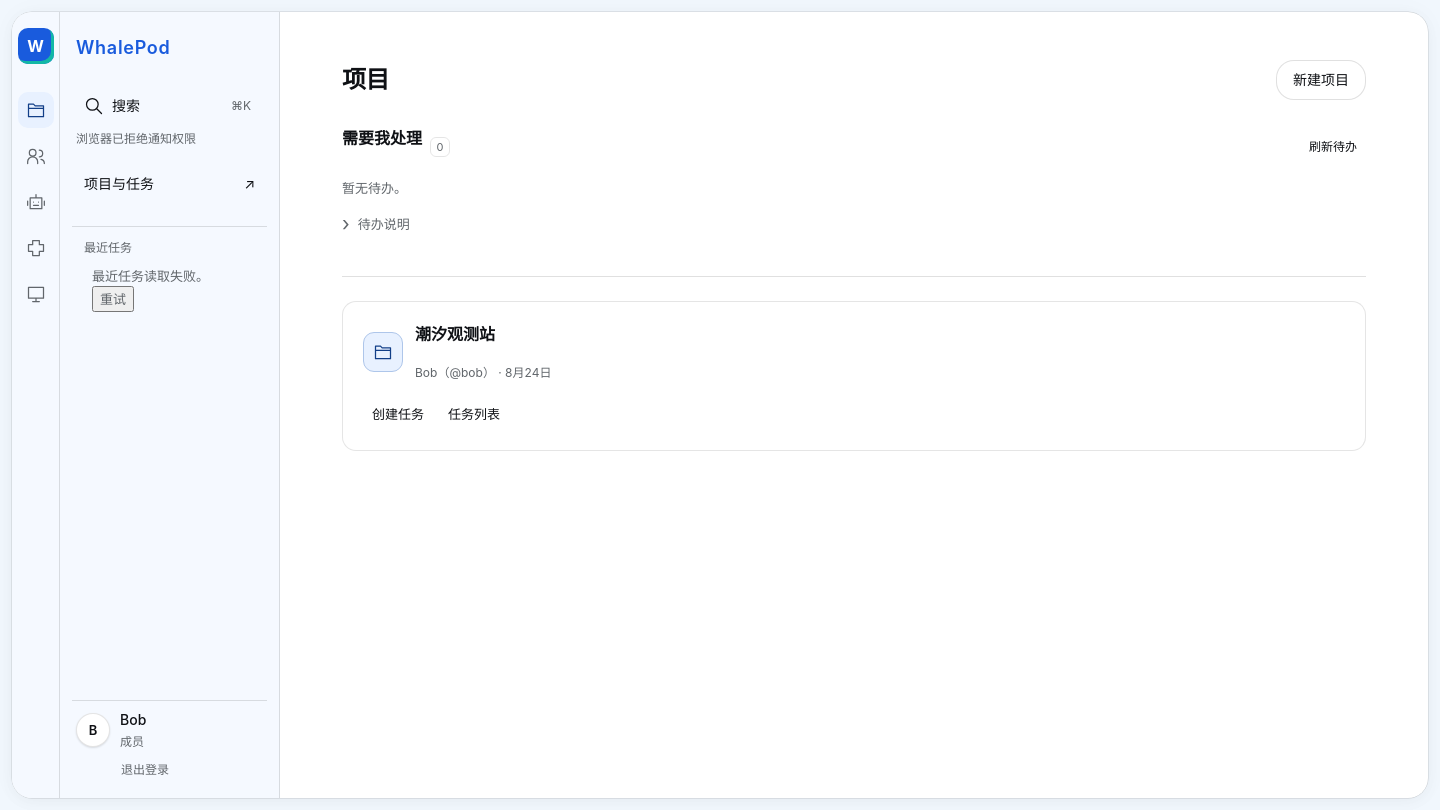
it: #344 创建任务：责任人与「创建后立即执行」拆开（承接 #239 指派即执行） › 分给别人：开关禁用并说明对方要先接受任务；执行中改选别人则显式关闭并清掉已选 Agent
Click the button "创建任务" at [398, 414], box left=363, top=398, right=433, bottom=430
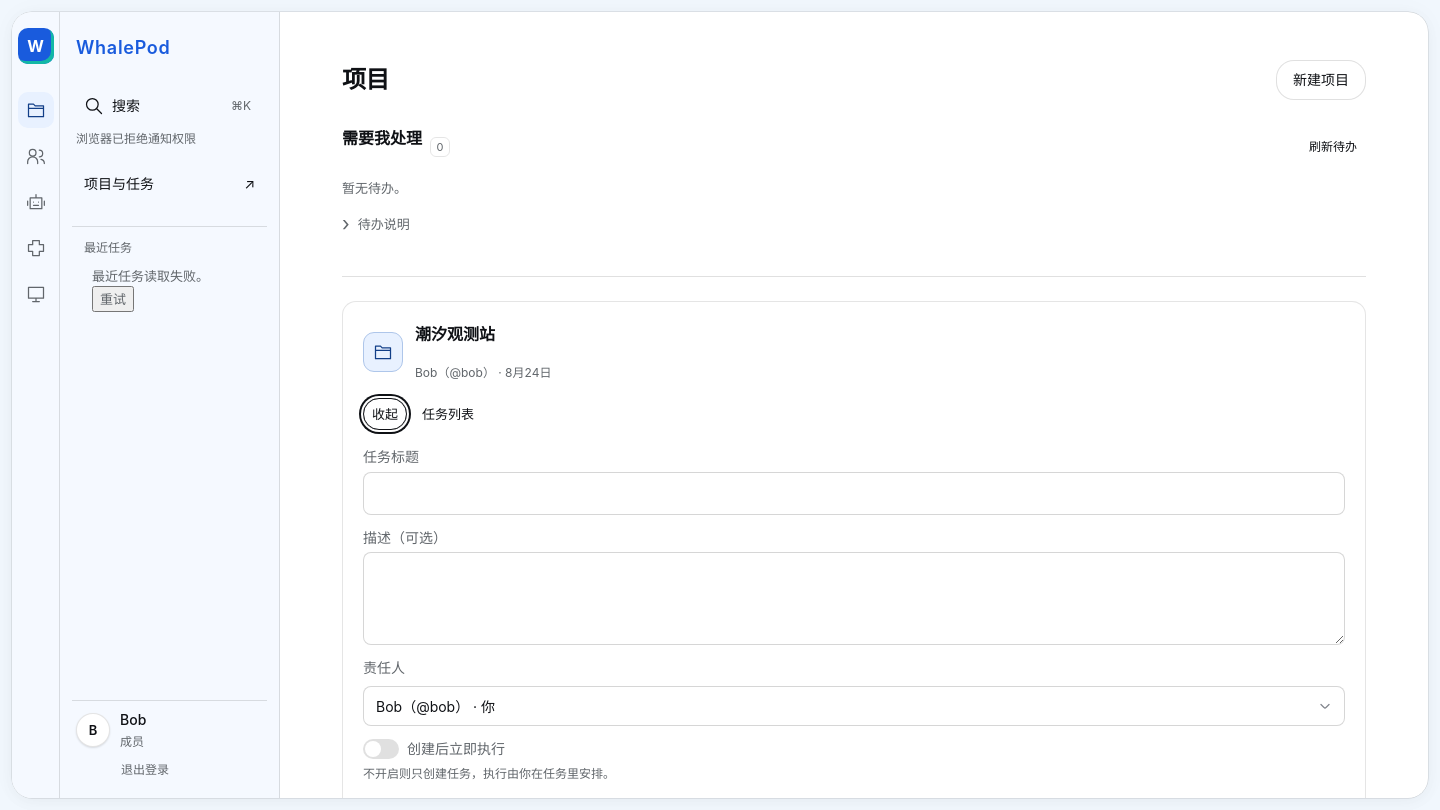
Type "把登录页改成深色" into the field labelled "任务标题" at [854, 493], box left=363, top=472, right=1345, bottom=515
Click the switch named "创建后立即执行" at [381, 749], box left=363, top=739, right=399, bottom=759
(page scrolled)
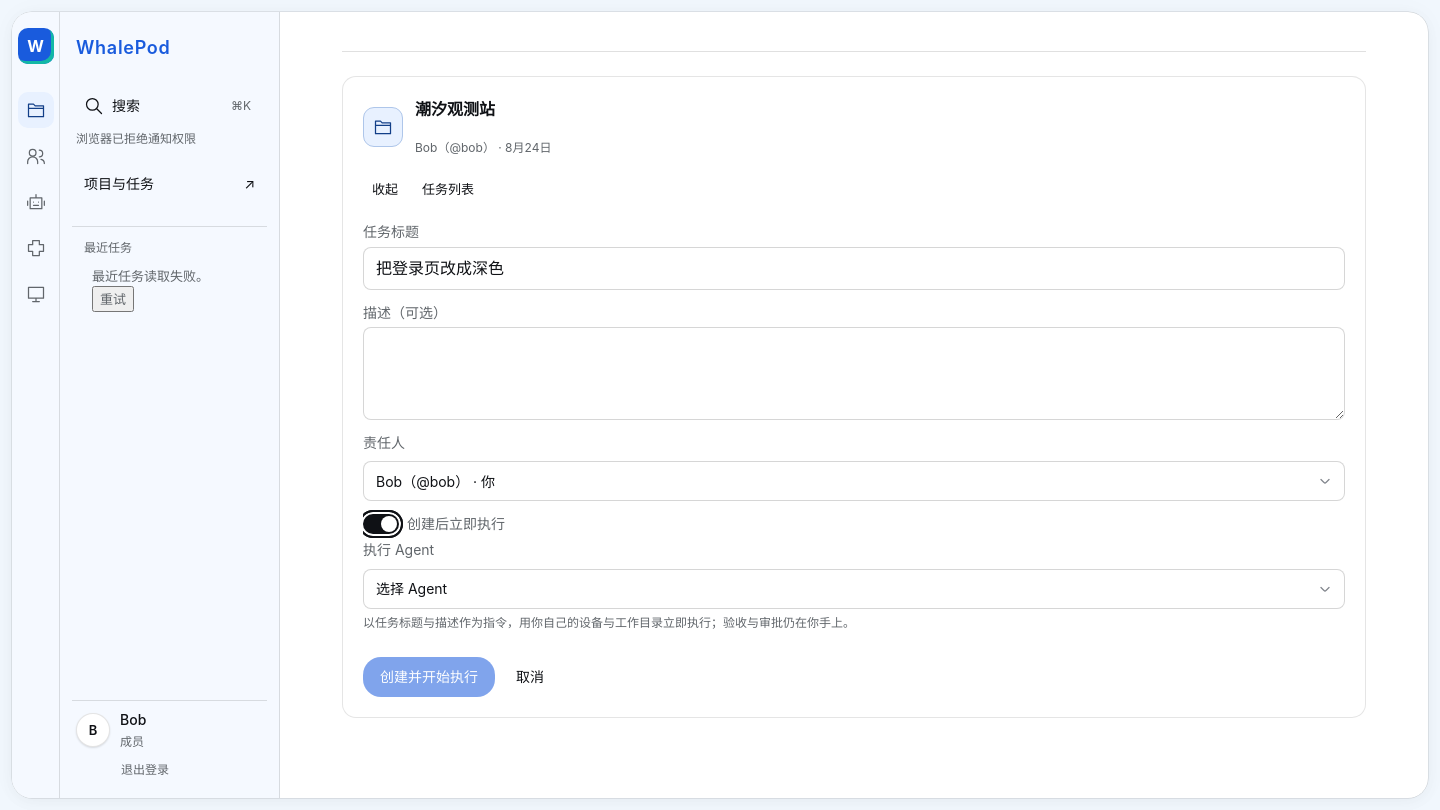
Click the button named "执行 Agent" at [412, 588], box left=363, top=569, right=1345, bottom=609
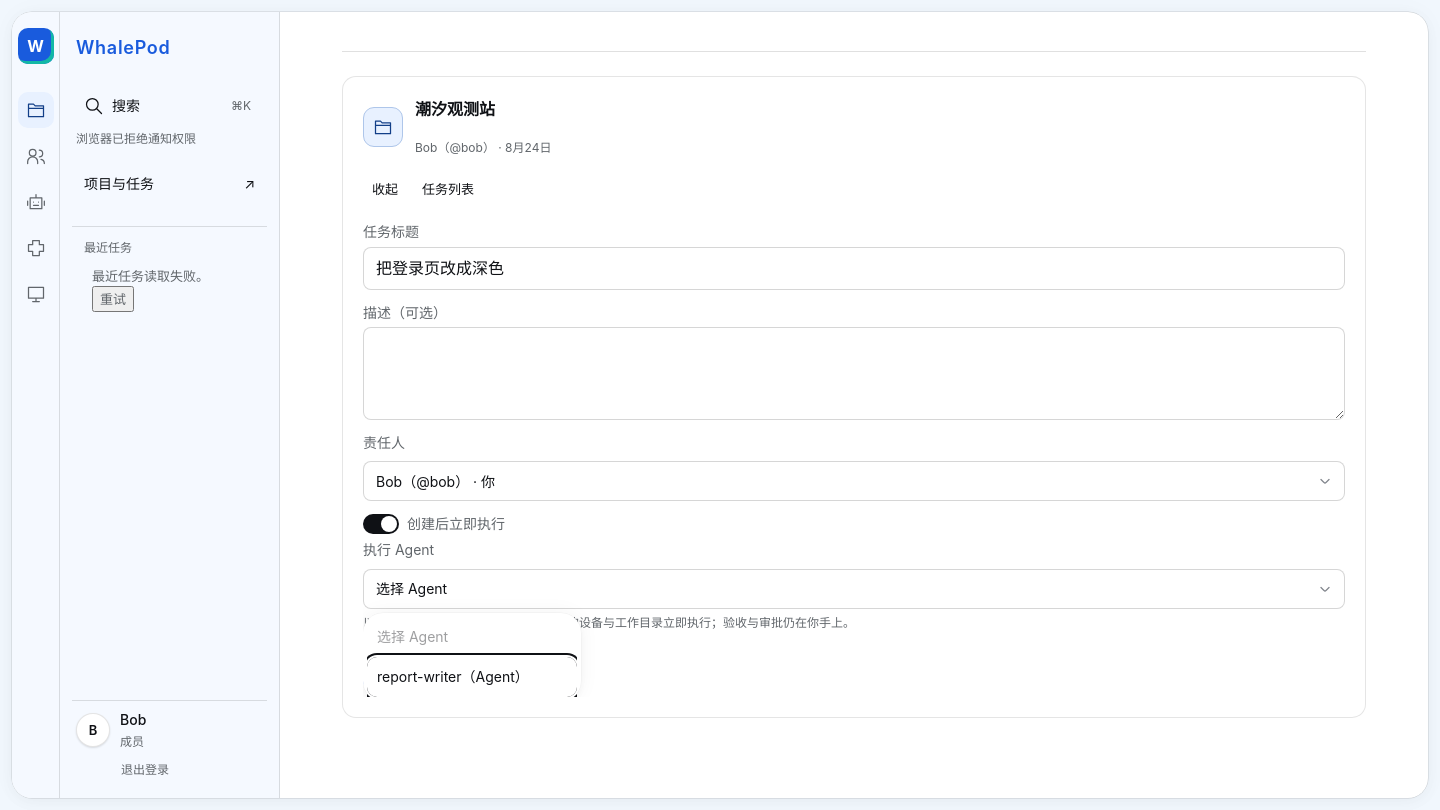
Click the menu item "report-writer（Agent）" at [472, 677], box left=367, top=657, right=577, bottom=697
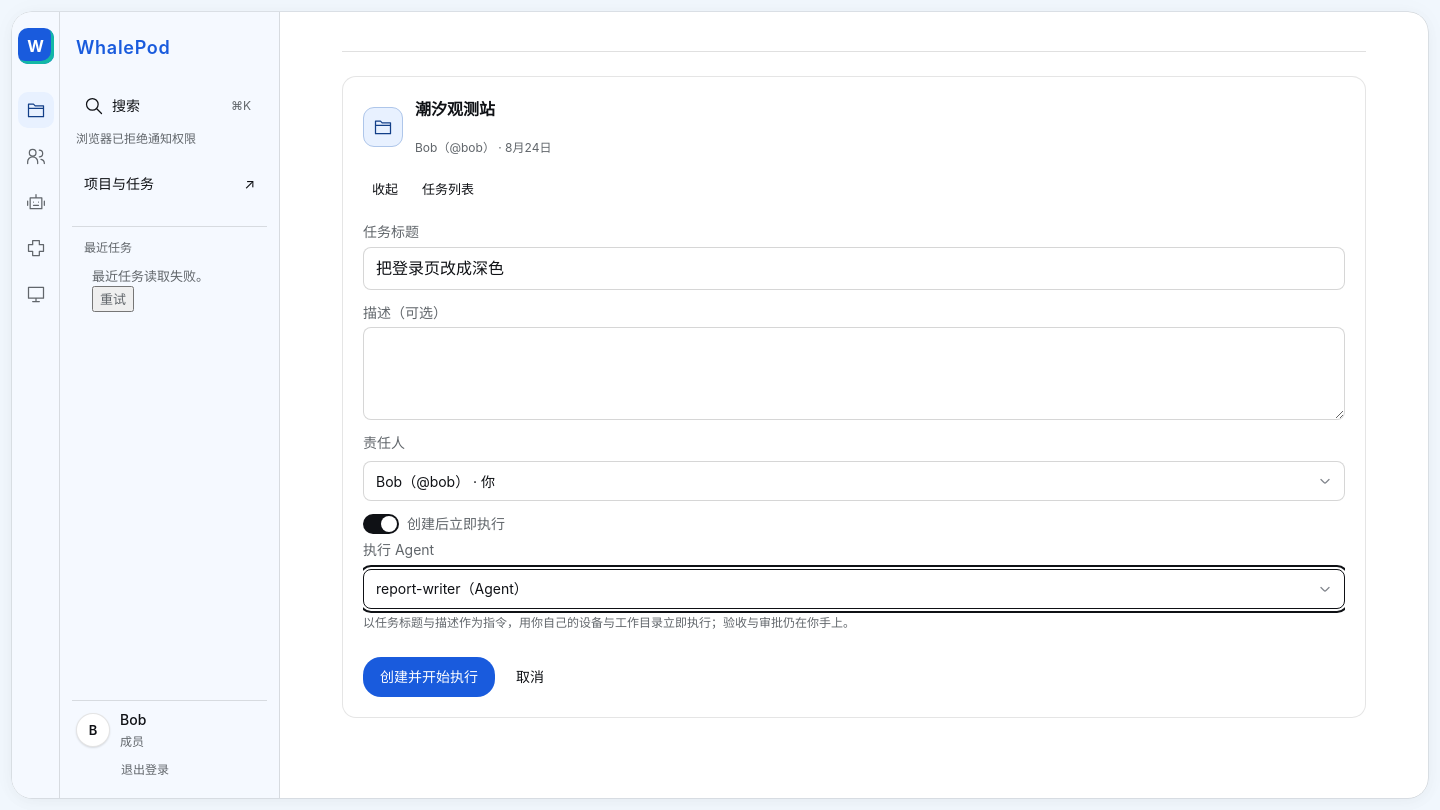
Now the button "创建并开始执行" is enabled, box left=363, top=657, right=495, bottom=697
Click the button named "责任人" at [436, 481], box left=363, top=461, right=1345, bottom=501
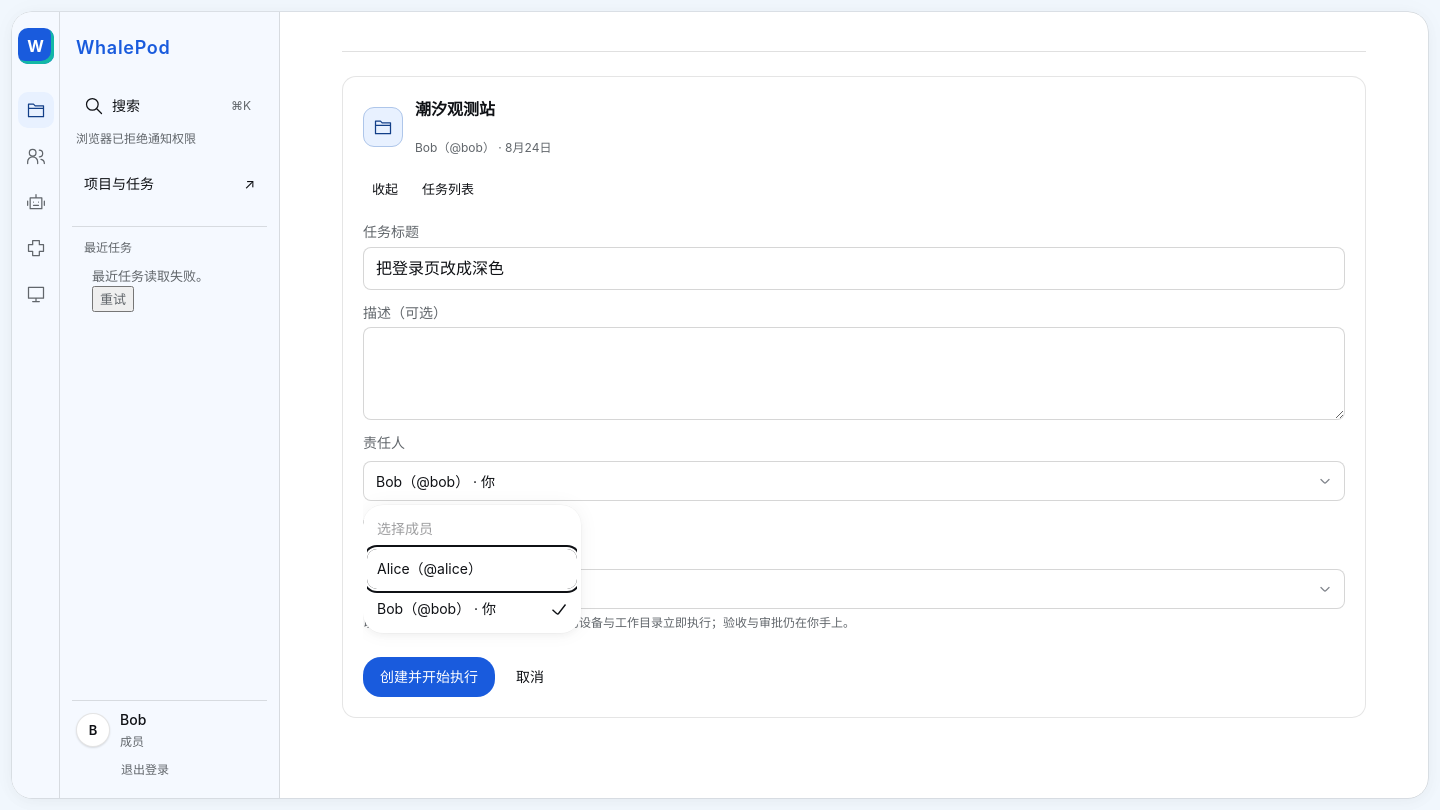
Click the menu item "Alice（@alice）" at [472, 569], box left=367, top=549, right=577, bottom=589
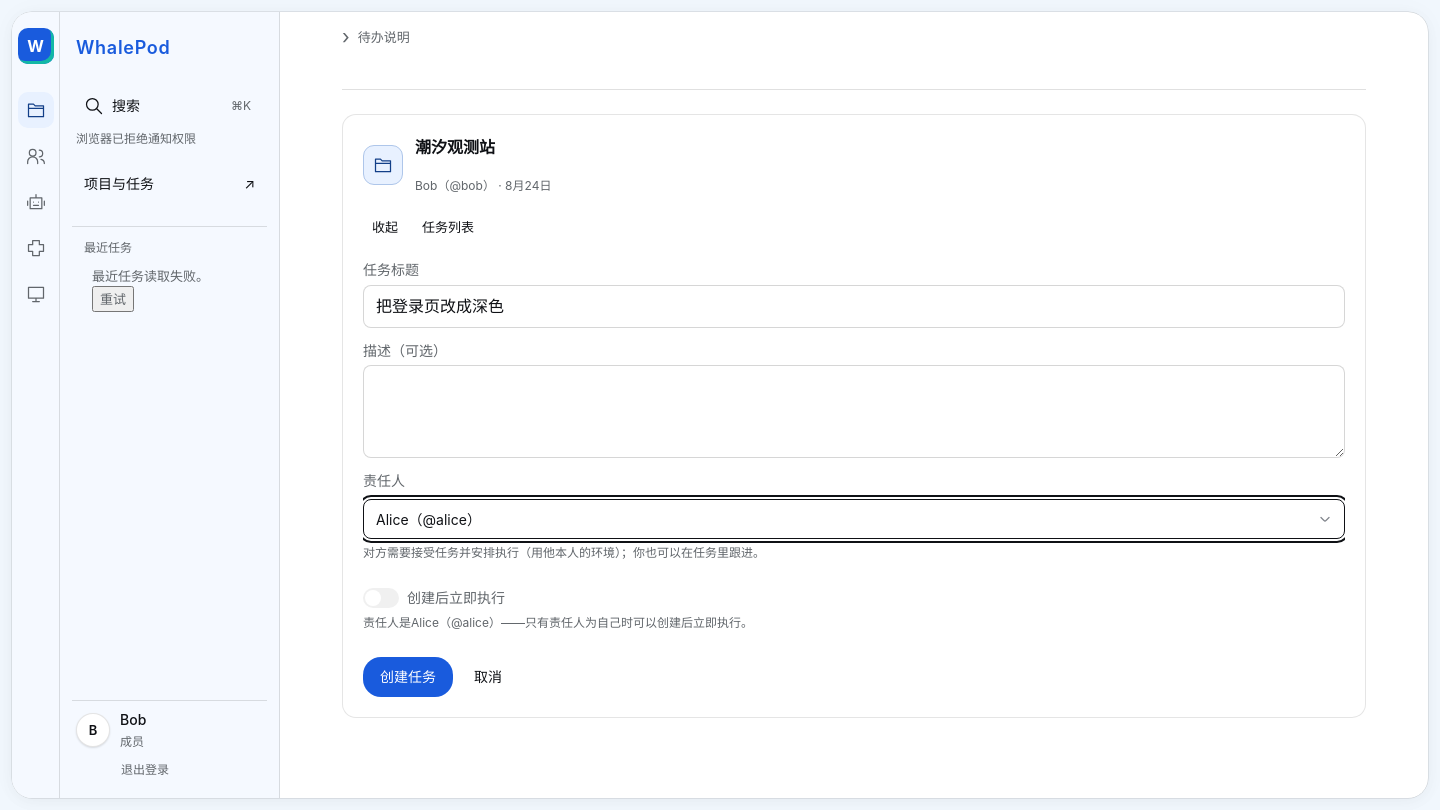
Now the button "创建任务" is enabled, box left=363, top=657, right=453, bottom=697
Now the label labelled "执行 Agent" is gone
Now the text with test id "assignee-member-hint" shows "接受任务并安排执行", box left=363, top=545, right=765, bottom=560
